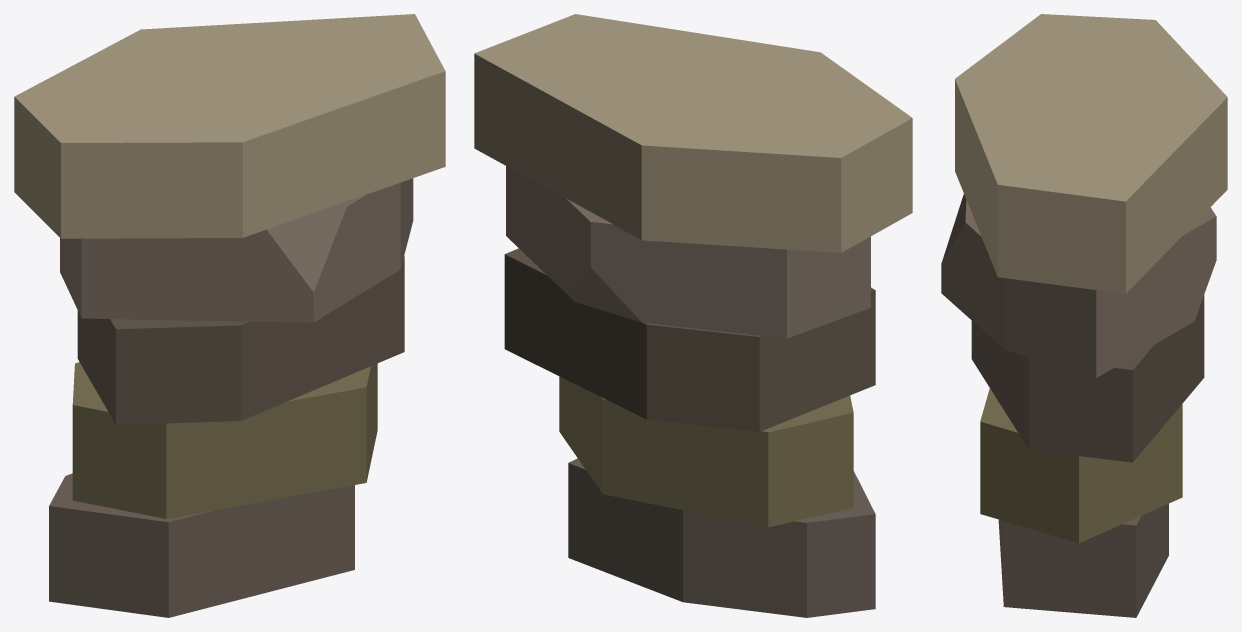
Rendered from 地形块B.FBX.
The picture shows the model from 3 angles, left to right: view 1: azimuth 30°, elevation 25°; view 2: azimuth 150°, elevation 25°; view 3: azimuth 270°, elevation 25°; orthographic projection. The views are drawn at different scales.
Parts seen in each view (by area): view 1: 地形块B; view 2: 地形块B; view 3: 地形块B.
Boxes of the visible parts, left/top/right/bottom form: 地形块B: left=14, top=14, right=445, bottom=617; 地形块B: left=474, top=14, right=912, bottom=617; 地形块B: left=941, top=14, right=1227, bottom=617.
Size of the model in its own units: 3.48 by 4.01 by 2.25.
Materials: 1 (1 with a texture image).
